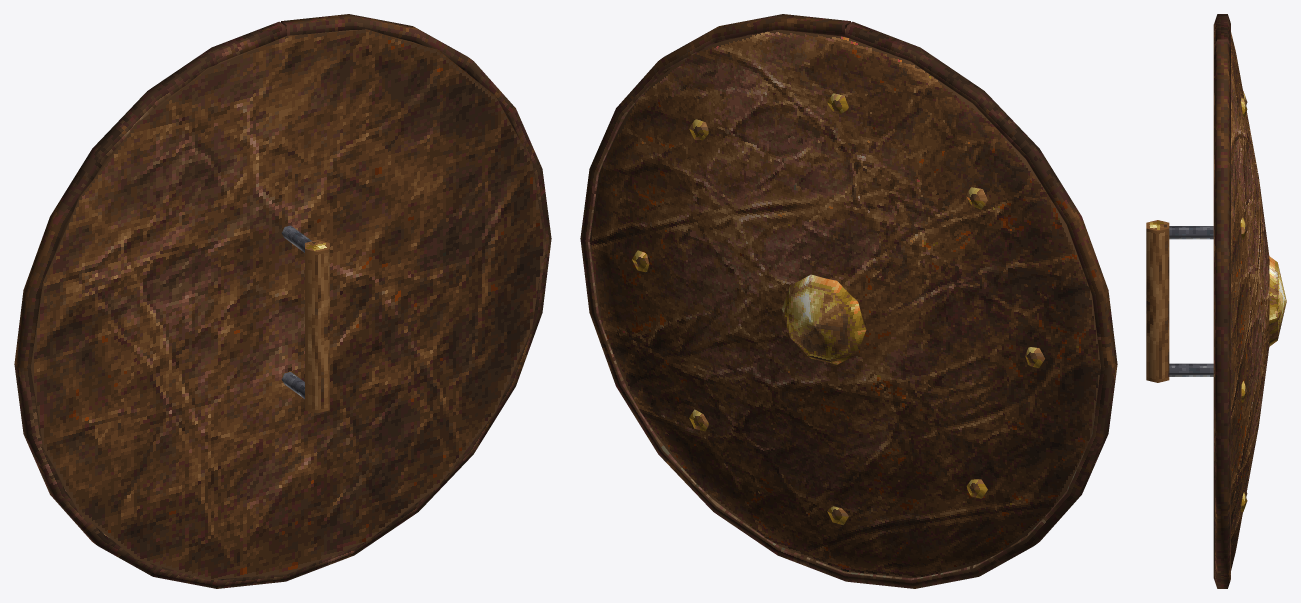
Rendered from hide_targe.glb.
The picture shows the model from 3 angles, left to right: view 1: azimuth 30°, elevation 25°; view 2: azimuth 150°, elevation 25°; view 3: azimuth 270°, elevation 25°; orthographic projection. The views are drawn at different scales.
Parts seen in each view (by area): view 1: hide_targe; view 2: hide_targe; view 3: hide_targe.
Boxes of the visible parts, x1,y1,x2,y2 form: hide_targe: (14,14,551,588); hide_targe: (580,14,1117,588); hide_targe: (1146,14,1286,588).
Size of the model in its own units: 0.5169 by 0.5169 by 0.1259.
1 material, 1 textured.
